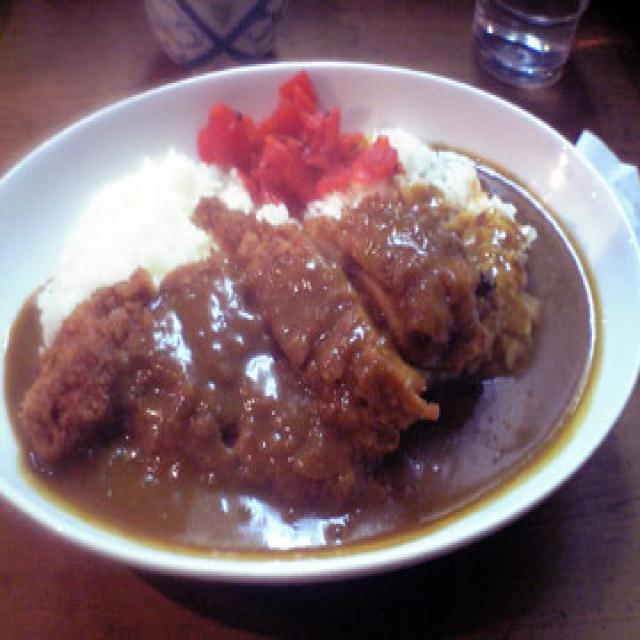猪肉菜式: (0, 52, 640, 593)
